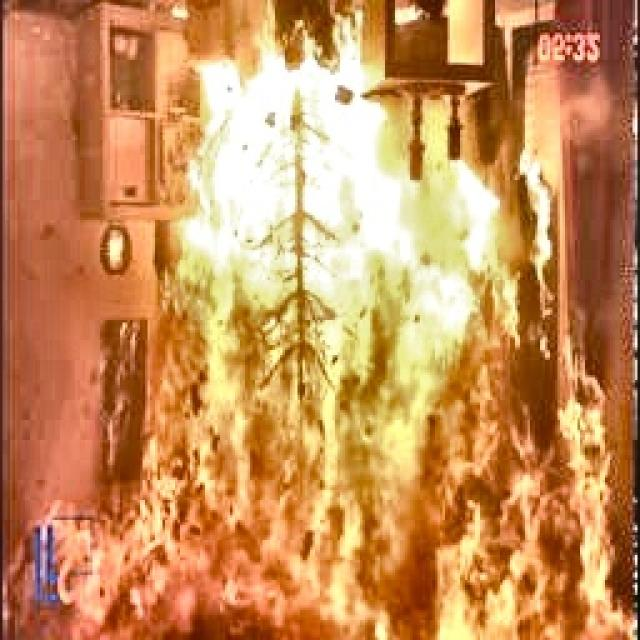fire: (8, 65, 638, 640)
